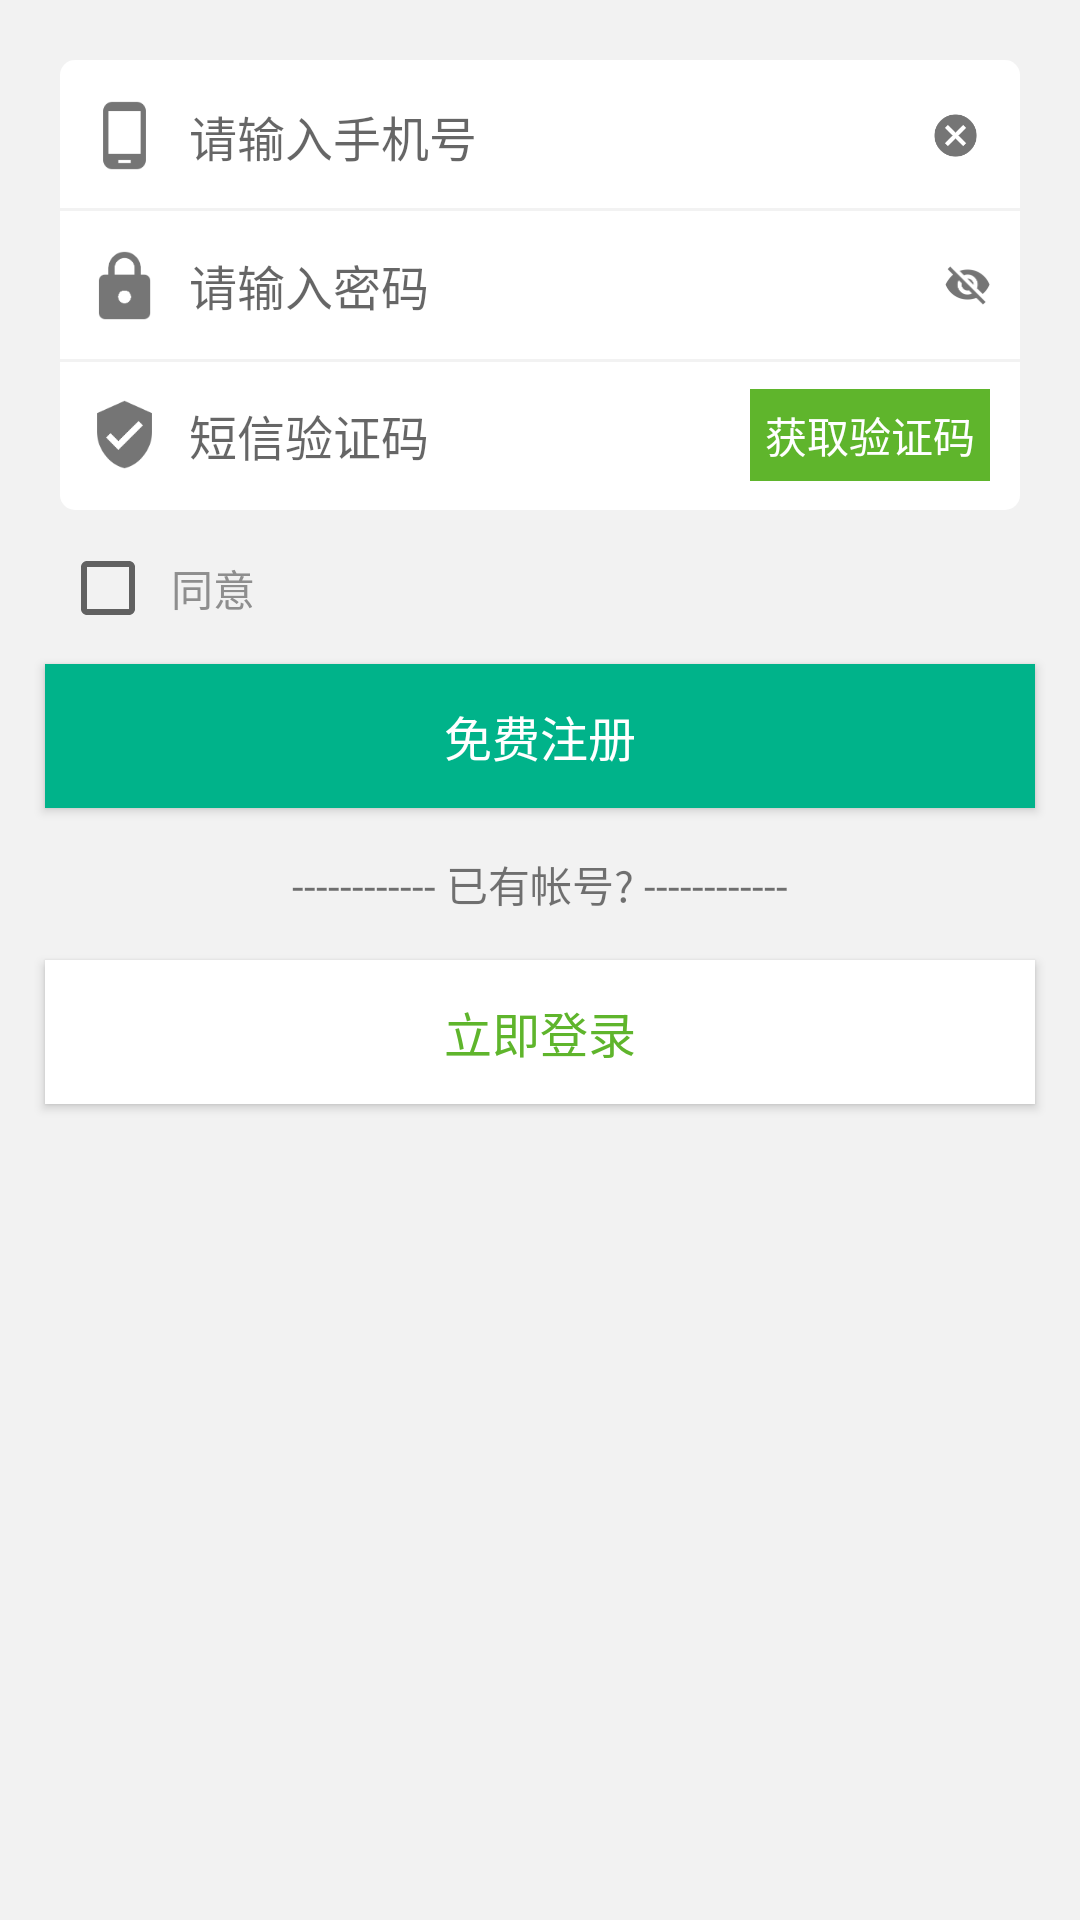

Screen size 1080 x 1920. Icon name, then its box in pixels as [left=x1, top=y1, right=x2, bottom=y2]:
cancel: [left=934, top=114, right=977, bottom=157]
checkable visibility off on: [left=945, top=266, right=990, bottom=304]
phone android: [left=103, top=102, right=146, bottom=169]
verified user: [left=97, top=401, right=152, bottom=468]
